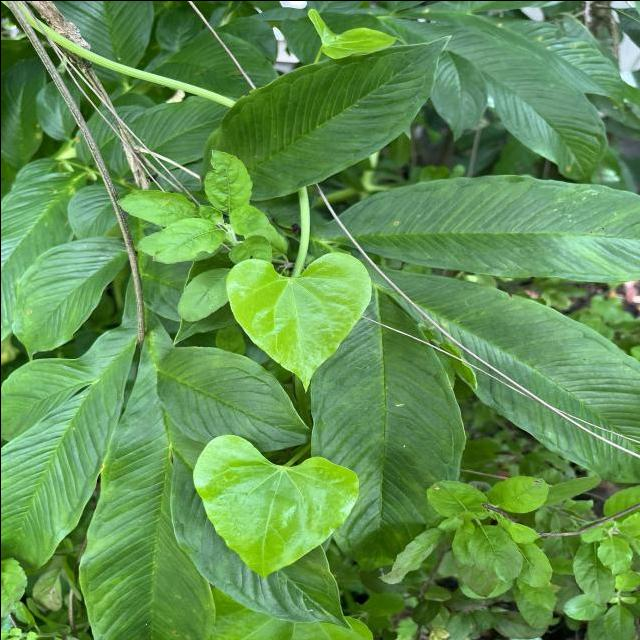Tinospora cordifolia: (190, 430, 362, 580), (224, 249, 374, 394)
